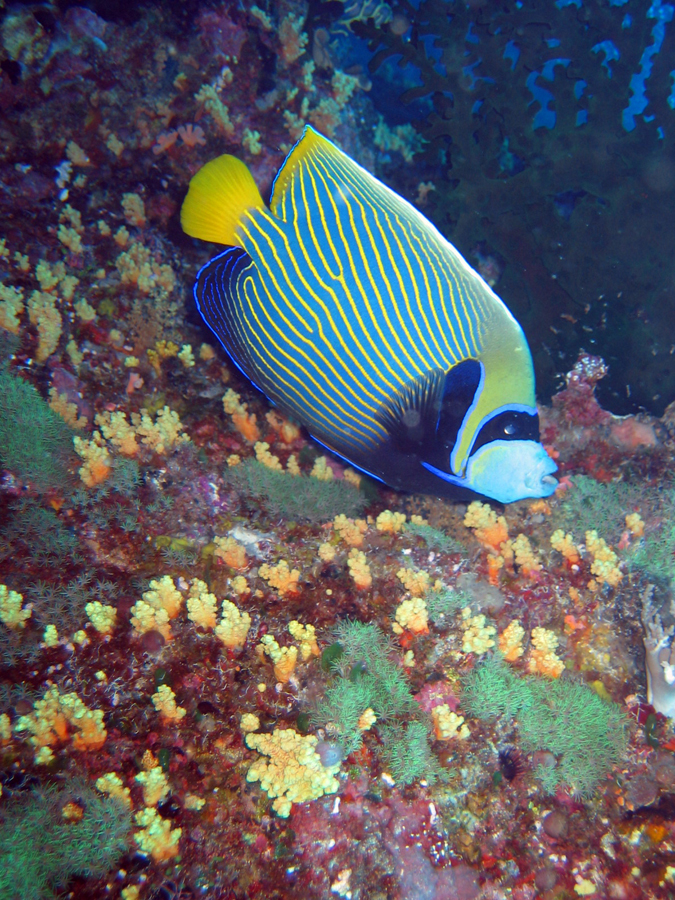Pomacanthus_imperator: (148, 109, 577, 524)
